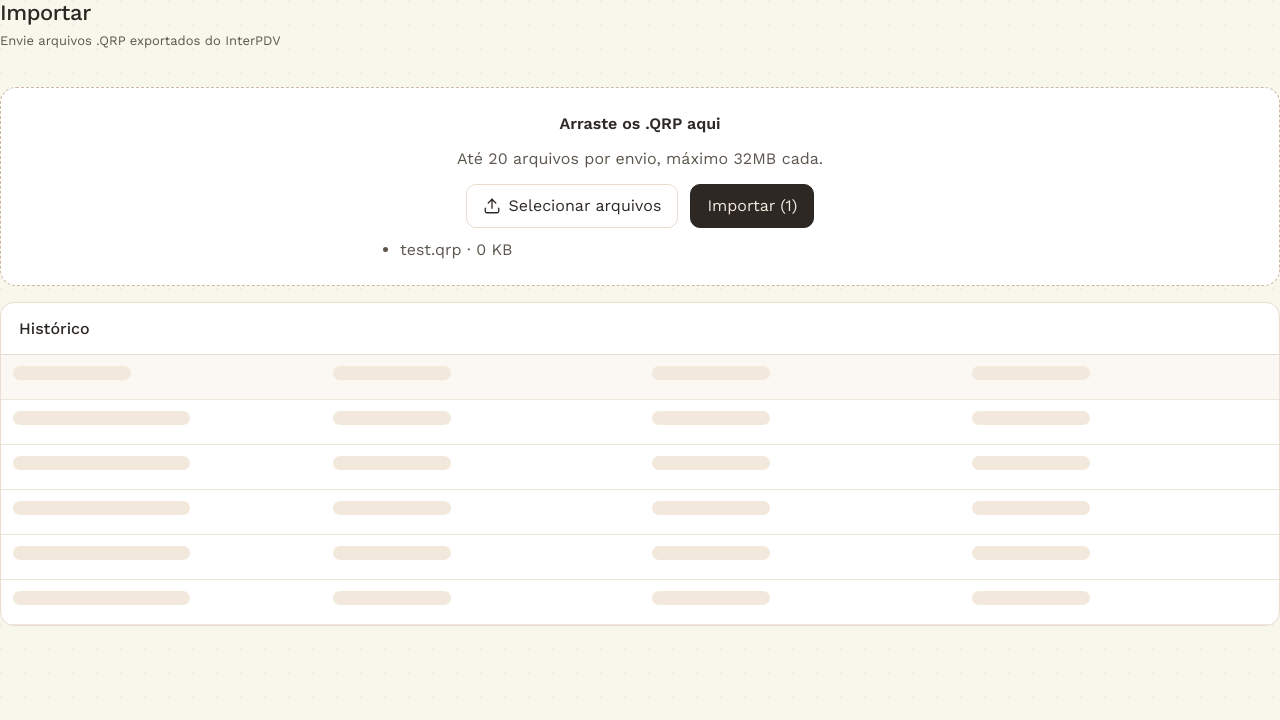
it: ImportsPage › refreshes history after a debug dataset reset
The width and height of the screenshot is (1280, 720).
Earlier steps of the test are not shown.
Click the button "Importar (1)" at coordinates (752, 206), box [690,184,814,228]
(page scrolled)
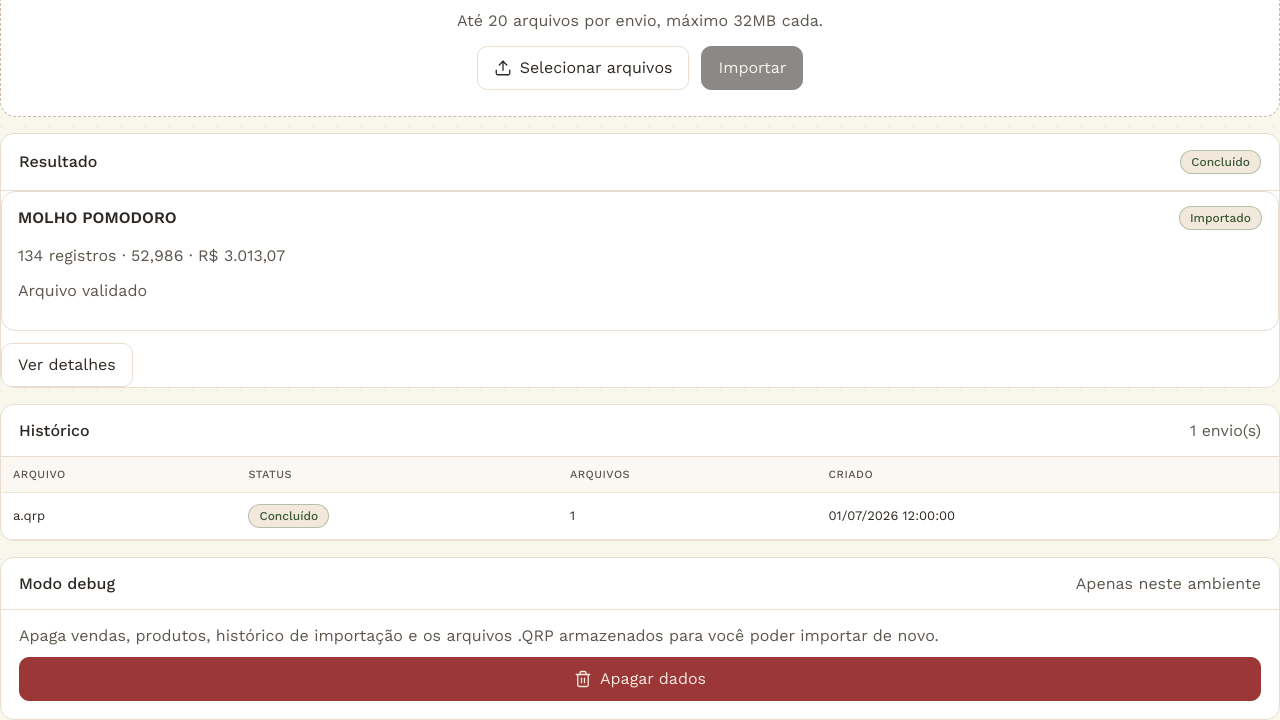
Expected: the text "MOLHO POMODORO" is shown, [18,208,177,227]
Click the button "Apagar dados" at coordinates (640, 679), box [19,657,1261,701]
(page scrolled)
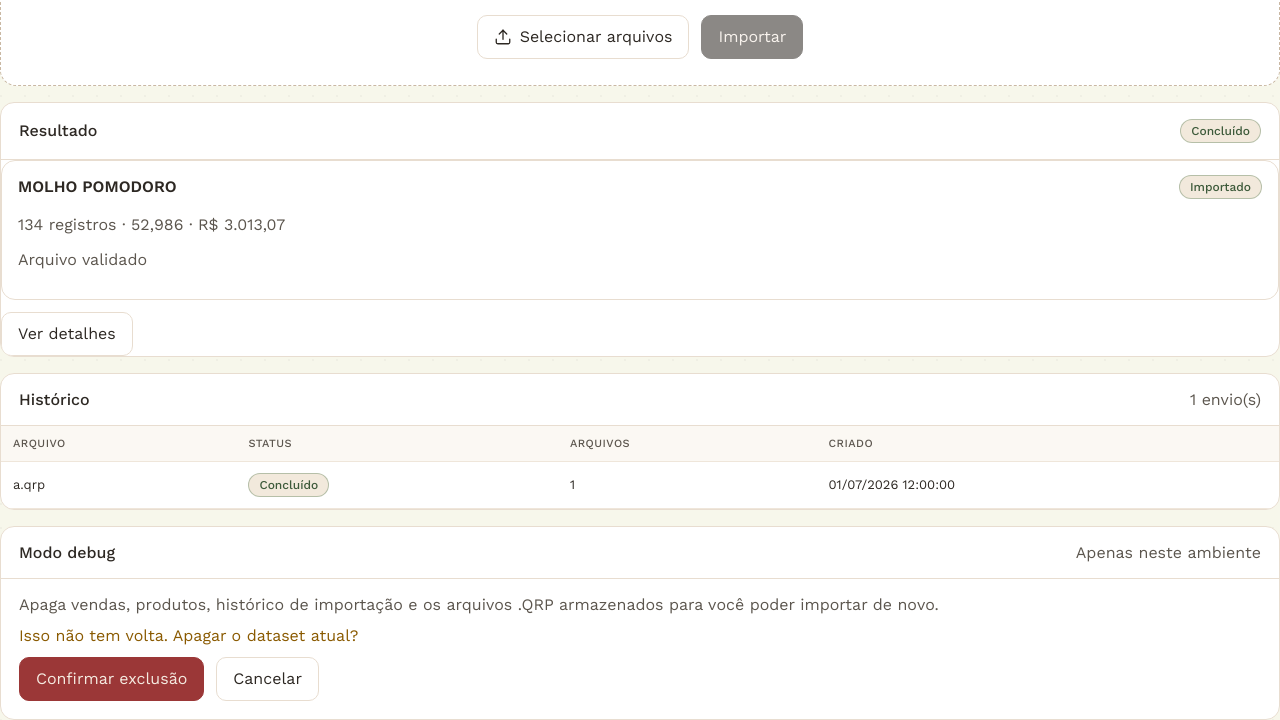
Click the button "Confirmar exclusão" at coordinates (112, 679), box [19,657,204,701]
(page scrolled)
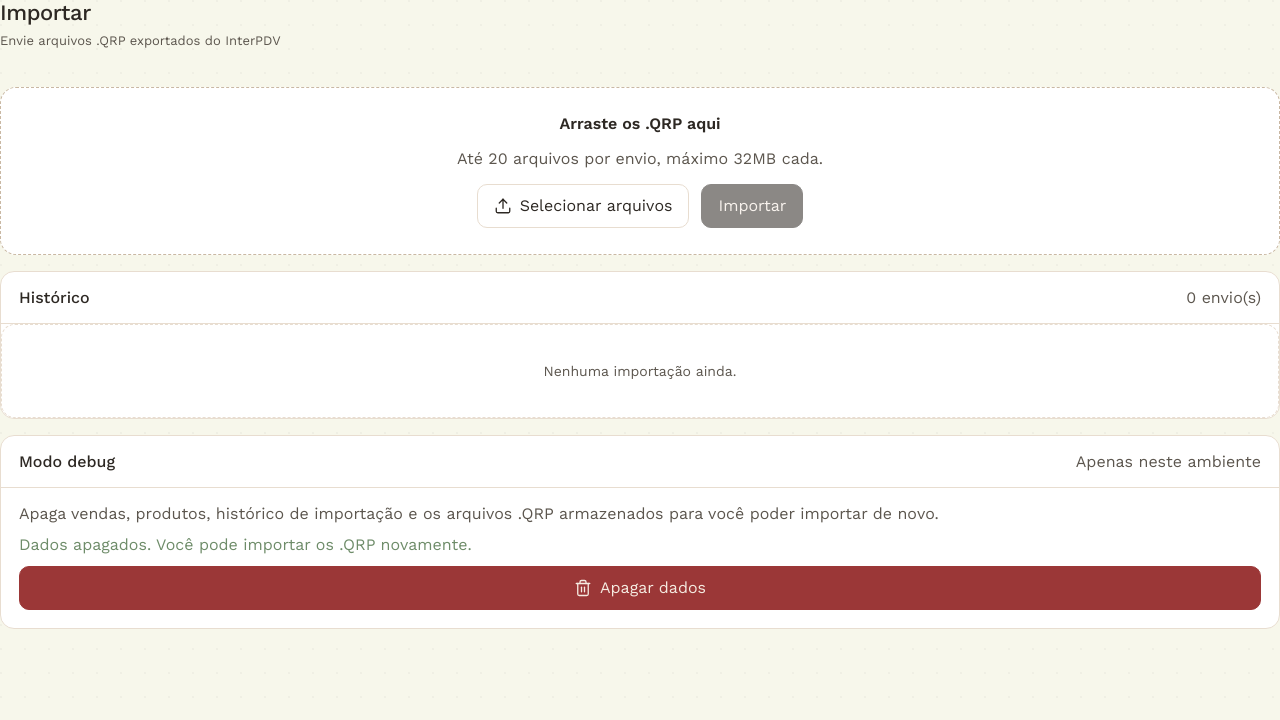
Expected: the text "Nenhuma importação ainda." is shown, [1,324,1279,418]
Expected: the link "MOLHO POMODORO" is gone
